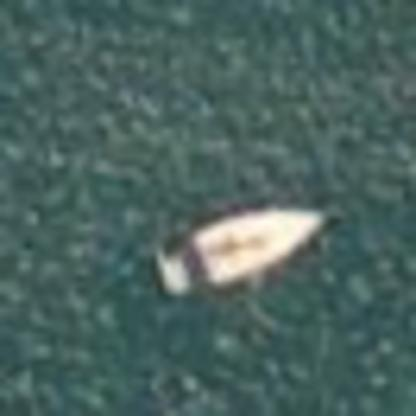ship: (140, 190, 352, 305)
